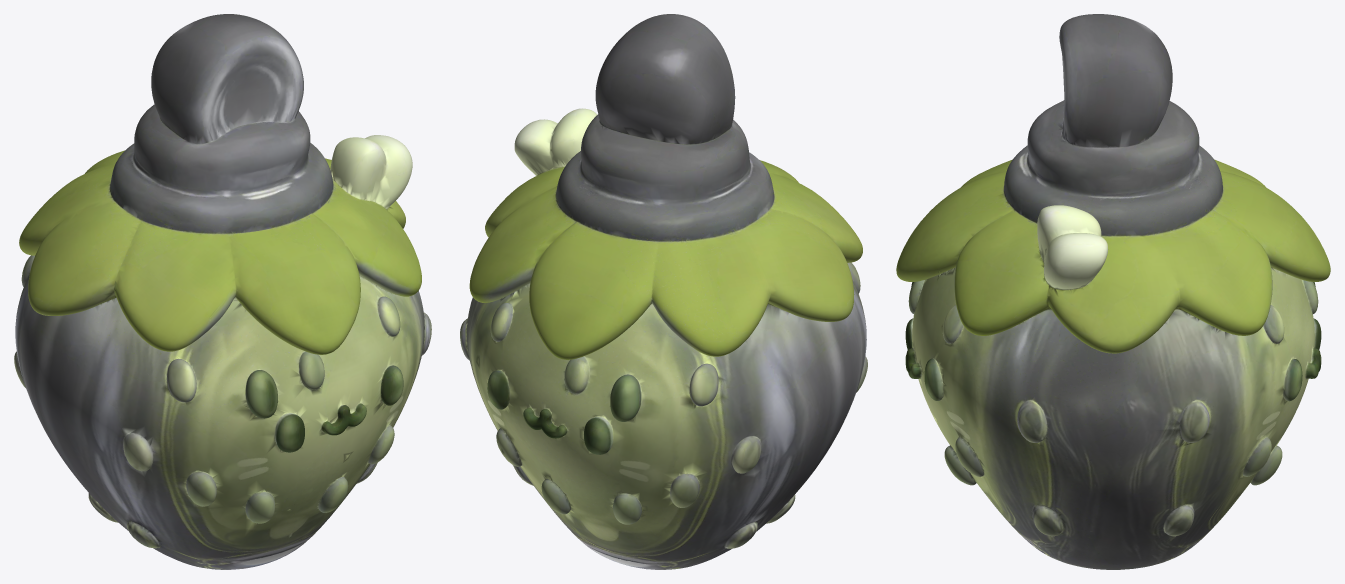
Rendered from food-strawberry.glb.
3 views of the same model, side by side, from view 1: azimuth 30°, elevation 25°; view 2: azimuth 150°, elevation 25°; view 3: azimuth 270°, elevation 25° (orthographic). The views are drawn at different scales.
Bounding box in the file's own units: 0.8479 × 1.2 × 0.8769.
Materials: 1 (1 with a texture image).
